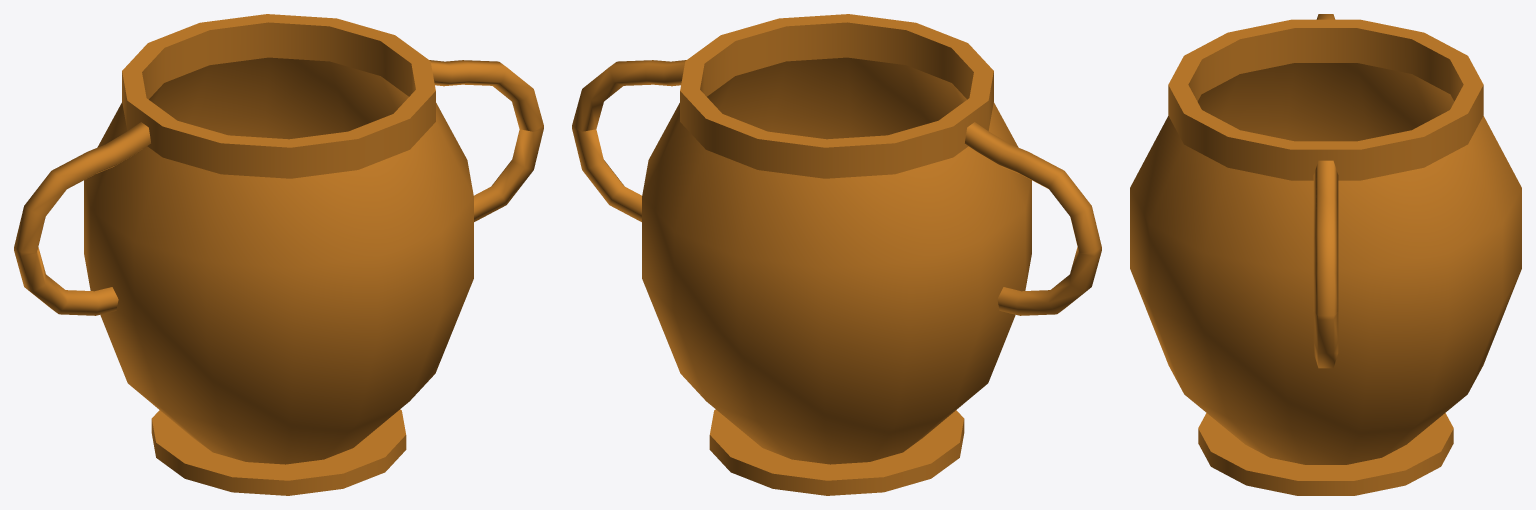
File: SM_pottery_arabian_002.fbx
The picture shows the model from 3 angles, left to right: view 1: azimuth 30°, elevation 25°; view 2: azimuth 150°, elevation 25°; view 3: azimuth 270°, elevation 25°; orthographic projection.
Visible parts, largest first — view 1: Object001; view 2: Object001; view 3: Object001.
Boxes of the visible parts, x1,y1,x2,y2 form: Object001: (14, 14, 543, 495); Object001: (572, 14, 1101, 495); Object001: (1130, 14, 1521, 495).
Size of the model in its own units: 27.99 by 18.31 by 18.48.
